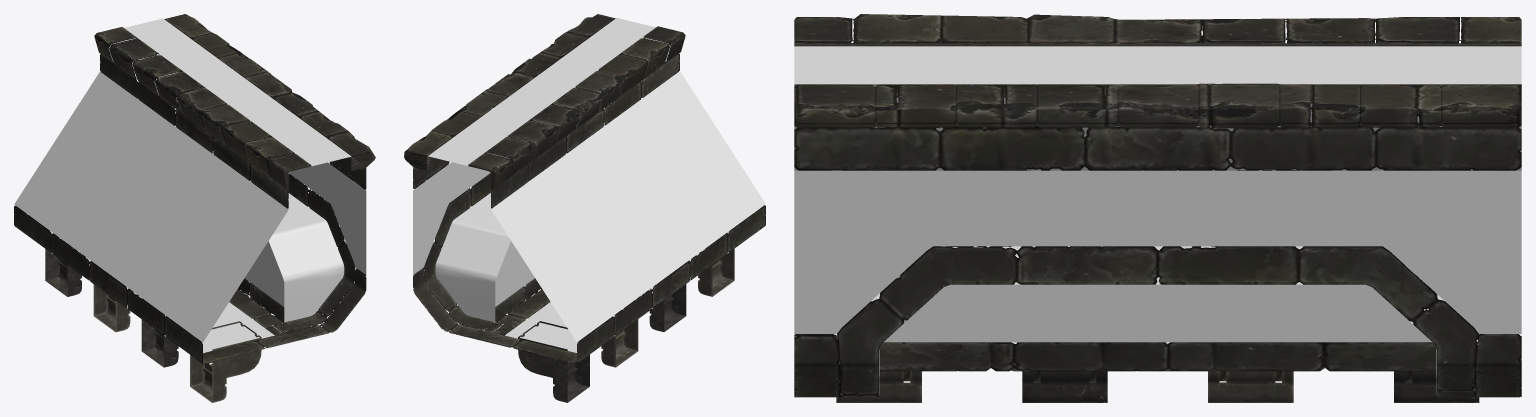
3 renders of one model, left to right at view 1: azimuth 30°, elevation 25°; view 2: azimuth 150°, elevation 25°; view 3: azimuth 270°, elevation 25°, orthographic. The views are drawn at different scales.
Parts seen in each view (by area): view 1: SM_Greathall_Stepout_8x4_01_LOD0; view 2: SM_Greathall_Stepout_8x4_01_LOD0; view 3: SM_Greathall_Stepout_8x4_01_LOD0.
Boxes of the visible parts, <box> form: SM_Greathall_Stepout_8x4_01_LOD0: <box>14,14,375,402</box>; SM_Greathall_Stepout_8x4_01_LOD0: <box>404,14,765,402</box>; SM_Greathall_Stepout_8x4_01_LOD0: <box>794,14,1521,402</box>.
Size of the model in its own units: 4.26 by 5.3 by 8.
Materials: 4 (3 with a texture image).
